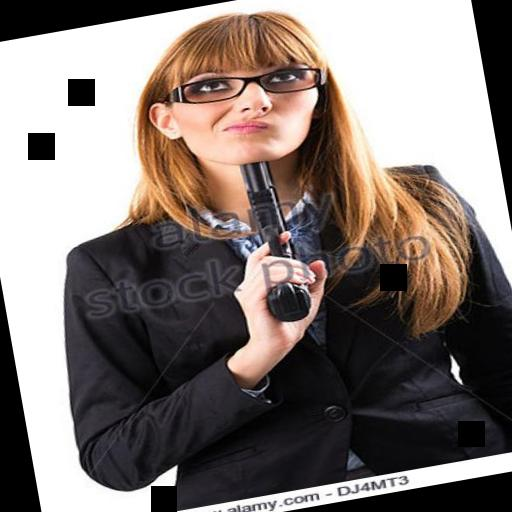Handgun: (238, 156, 312, 322)
